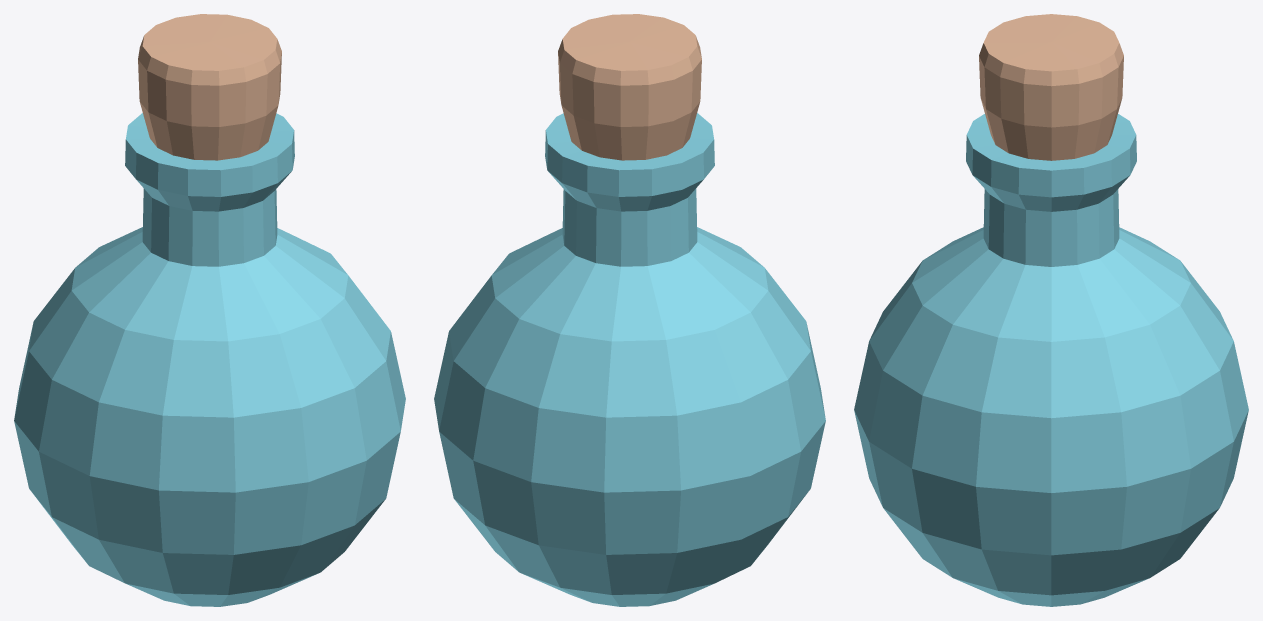
Rendered from Potion.fbx.
The picture shows the model from 3 angles, left to right: view 1: azimuth 30°, elevation 25°; view 2: azimuth 150°, elevation 25°; view 3: azimuth 270°, elevation 25°; orthographic projection.
Parts seen in each view (by area): view 1: Pot; view 2: Pot; view 3: Pot.
Boxes of the visible parts, x1,y1,x2,y2 form: Pot: (14,14,405,606); Pot: (434,14,825,606); Pot: (854,14,1248,606).
Size of the model in its own units: 185 by 283 by 185.
